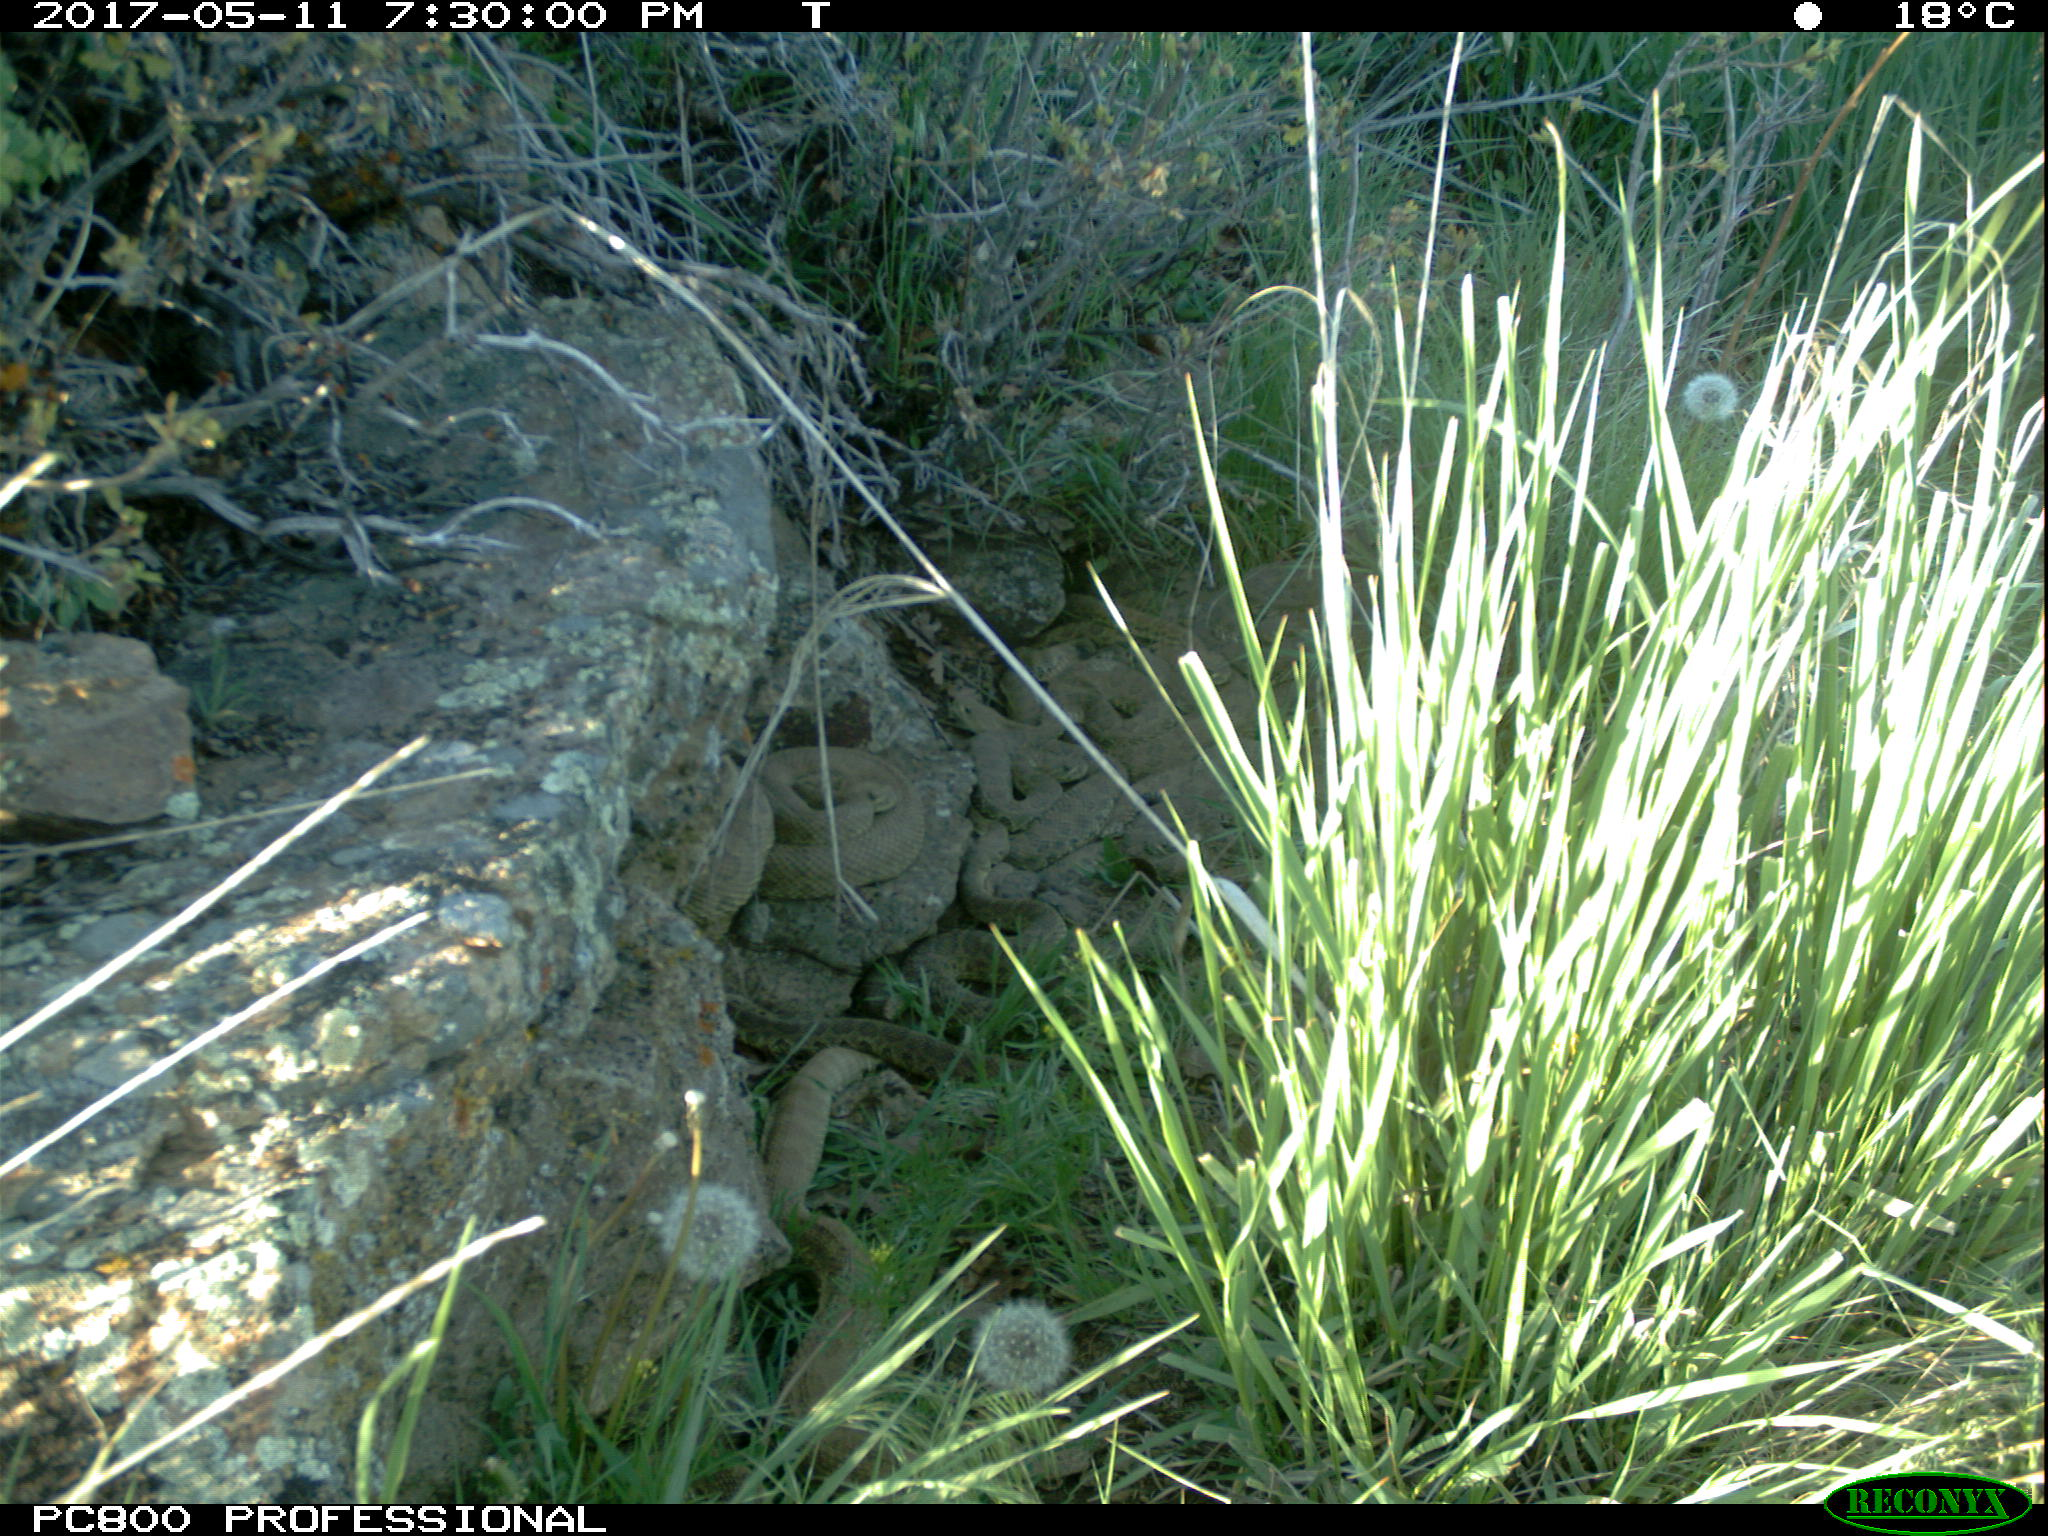snake: (758, 1044, 895, 1481), (1018, 599, 1271, 816), (950, 808, 1219, 957), (724, 1008, 1068, 1094), (1214, 561, 1419, 695), (755, 742, 926, 899), (943, 694, 1089, 815), (682, 771, 771, 936)
